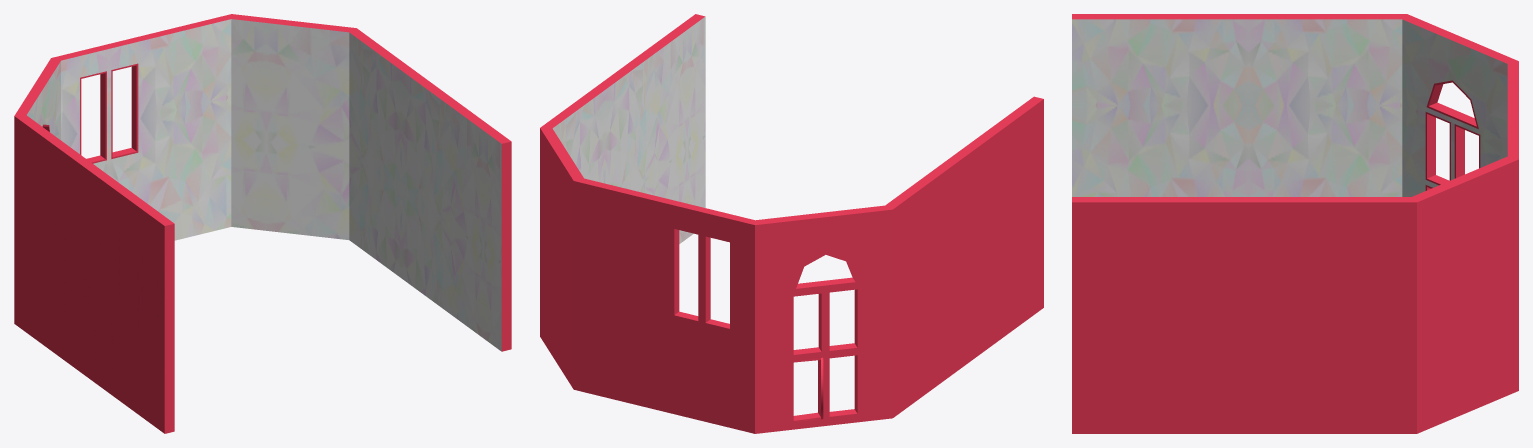
File: denem-w-sett.obj
3 views of the same model, side by side, from view 1: azimuth 30°, elevation 25°; view 2: azimuth 150°, elevation 25°; view 3: azimuth 270°, elevation 25° (orthographic). The views are drawn at different scales.
Parts seen in each view (by area): view 1: Cube.001_wall_pembe.001, Cube.001_m_koyupembe; view 2: Cube.001_m_koyupembe, Cube.001_wall_pembe.001; view 3: Cube.001_m_koyupembe, Cube.001_wall_pembe.001.
Part boxes in pixels (x1,y1,x2,y2): Cube.001_wall_pembe.001: [27, 19, 501, 351]; Cube.001_m_koyupembe: [14, 14, 511, 433]; Cube.001_m_koyupembe: [540, 14, 1043, 433]; Cube.001_wall_pembe.001: [552, 16, 705, 243]; Cube.001_m_koyupembe: [1072, 14, 1518, 433]; Cube.001_wall_pembe.001: [1072, 19, 1507, 196].
Bounding box in the file's own units: 68.08 × 38.99 × 68.21.
